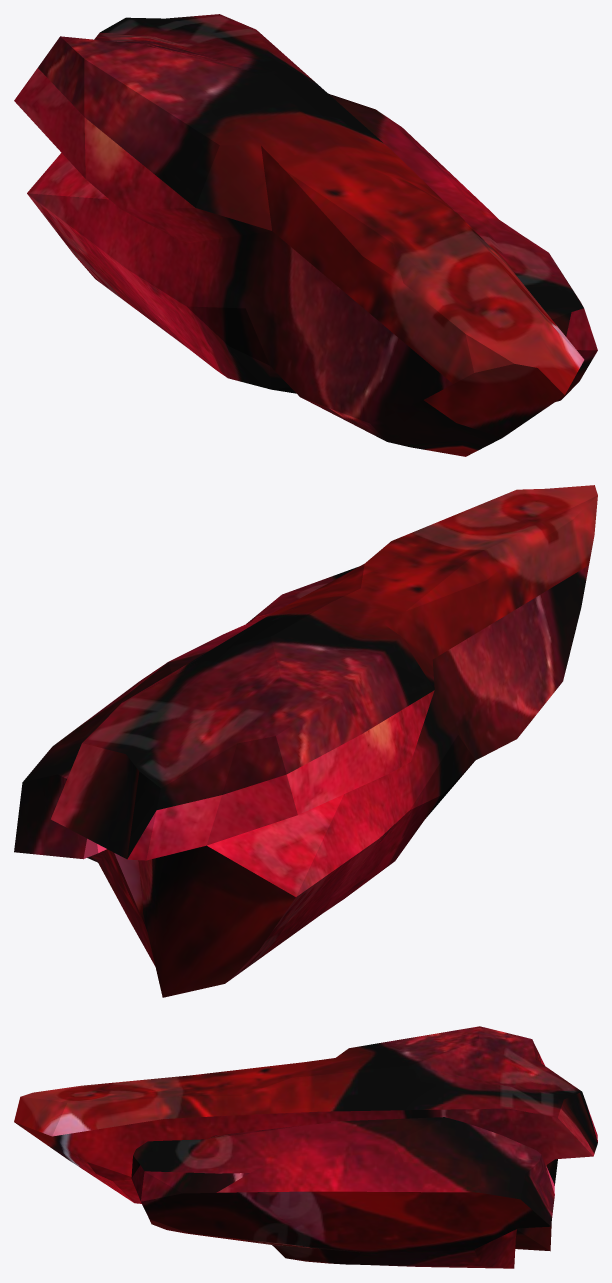
Rendered from Rock_4_Cube.obj.
3 views of the same model, one above another, from view 1: azimuth 30°, elevation 25°; view 2: azimuth 150°, elevation 25°; view 3: azimuth 270°, elevation 25° (orthographic). The views are drawn at different scales.
Parts seen in each view (by area): view 1: Rock_4_Cube.009; view 2: Rock_4_Cube.009; view 3: Rock_4_Cube.009.
Part boxes in pixels (x1=…): Rock_4_Cube.009: x1=14, y1=14, x2=597, y2=456; Rock_4_Cube.009: x1=14, y1=485, x2=597, y2=997; Rock_4_Cube.009: x1=14, y1=1026, x2=597, y2=1268.
Bounding box in the file's own units: 0.8592 × 0.8124 × 2.15.
